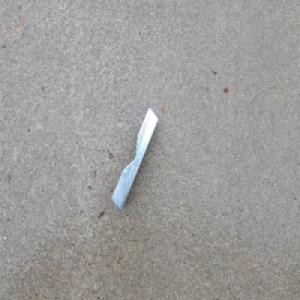ClampPart: (109, 105, 158, 212)
